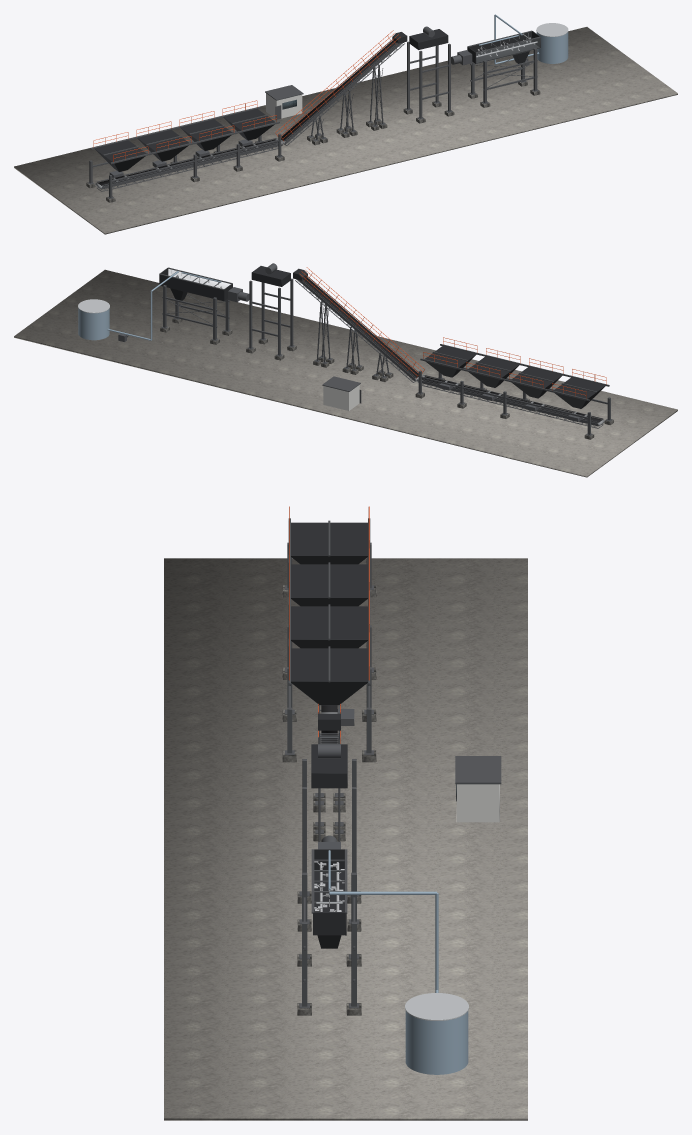
File: om-group-wmm-plant.glb
The picture shows the model from 3 angles, top to bottom: view 1: azimuth 30°, elevation 25°; view 2: azimuth 150°, elevation 25°; view 3: azimuth 270°, elevation 25°; orthographic projection. The views are drawn at different scales.
Parts seen in each view (by area): view 1: Ground, SteelWork, CharcoalWork, BeltRubber, OrangeWork, PipeBlue, Footings, Motors, PugGlass, Cabin, Fittings; view 2: Ground, SteelWork, CharcoalWork, OrangeWork, BeltRubber, PipeBlue, Footings, Motors, Cabin, Fittings; view 3: Ground, CharcoalWork, SteelWork, PipeBlue, Footings, Cabin, Fittings.
Boxes of the visible parts, left/top/right/bottom form: Ground: left=14, top=27, right=677, bottom=234; SteelWork: left=87, top=30, right=540, bottom=198; CharcoalWork: left=94, top=29, right=540, bottom=171; BeltRubber: left=97, top=40, right=397, bottom=186; OrangeWork: left=93, top=30, right=400, bottom=161; PipeBlue: left=479, top=14, right=568, bottom=64; Footings: left=86, top=81, right=540, bottom=202; Motors: left=109, top=26, right=529, bottom=177; PugGlass: left=476, top=38, right=539, bottom=63; Cabin: left=266, top=93, right=302, bottom=118; Fittings: left=481, top=23, right=568, bottom=47; Ground: left=14, top=269, right=677, bottom=477; SteelWork: left=159, top=267, right=612, bottom=435; CharcoalWork: left=159, top=266, right=605, bottom=408; OrangeWork: left=299, top=267, right=606, bottom=398; BeltRubber: left=302, top=277, right=602, bottom=422; PipeBlue: left=78, top=271, right=221, bottom=340; Footings: left=160, top=317, right=613, bottom=439; Motors: left=118, top=263, right=581, bottom=421; Cabin: left=323, top=385, right=359, bottom=410; Fittings: left=78, top=270, right=218, bottom=313; Ground: left=164, top=558, right=527, bottom=1120; CharcoalWork: left=291, top=522, right=367, bottom=948; SteelWork: left=285, top=518, right=501, bottom=1008; PipeBlue: left=328, top=850, right=468, bottom=1074; Footings: left=282, top=585, right=376, bottom=1015; Cabin: left=456, top=784, right=499, bottom=822; Fittings: left=316, top=890, right=468, bottom=1020.
Size of the model in its own units: 80 by 12.14 by 22.
15 materials, 2 textured.
